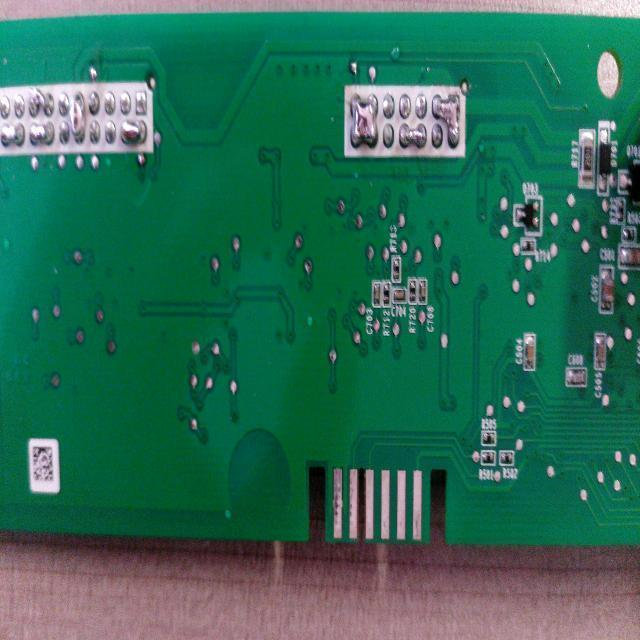Soldering shorted: (430, 88, 463, 152), (348, 90, 380, 150), (69, 87, 88, 149), (398, 120, 429, 156), (27, 85, 56, 118), (28, 120, 56, 154), (119, 120, 149, 150), (0, 122, 26, 151)
